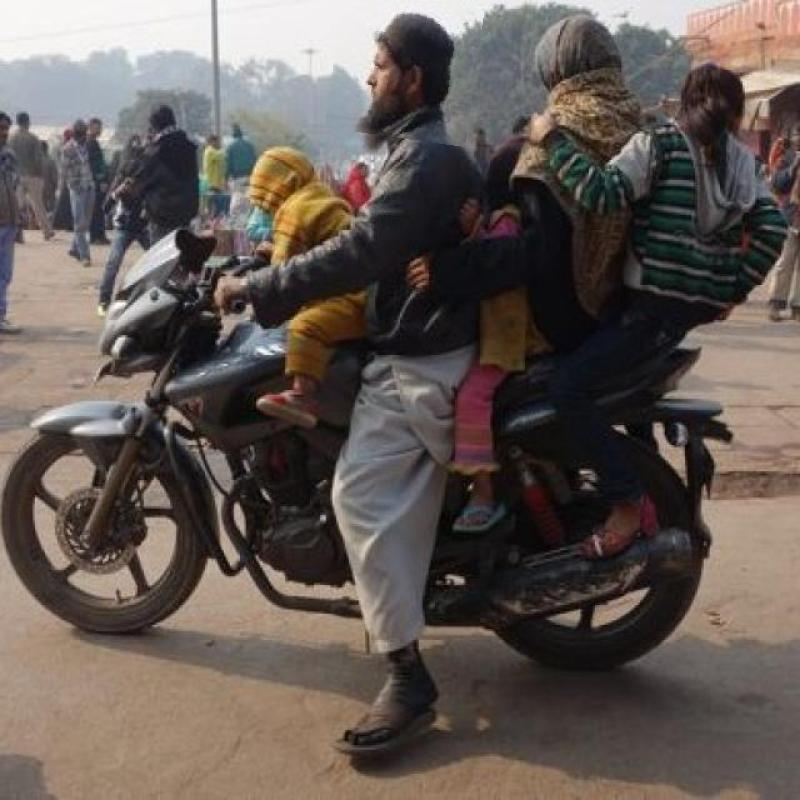nohelmet: (329, 0, 480, 142)
